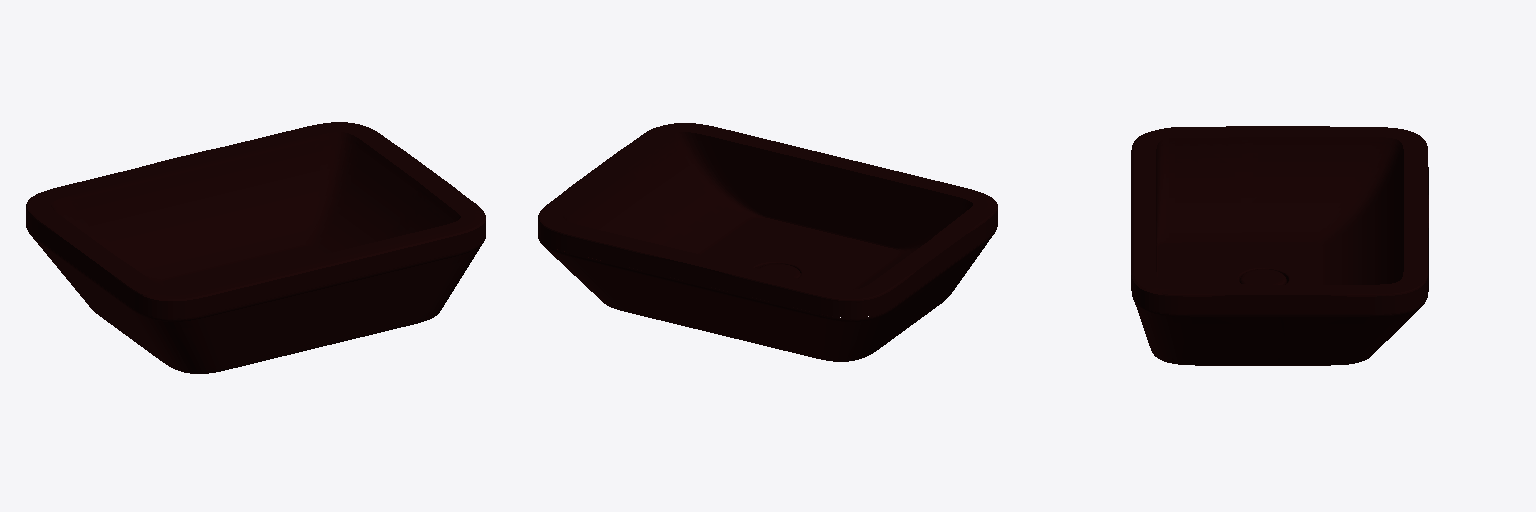
Rendered from washbasin.obj.
3 renders of one model, left to right at view 1: azimuth 30°, elevation 25°; view 2: azimuth 150°, elevation 25°; view 3: azimuth 270°, elevation 25°, orthographic.
Parts seen in each view (by area): view 1: Plane523; view 2: Plane523; view 3: Plane523.
Part boxes in pixels (x1,y1,x2,y2): Plane523: (26,122,485,373); Plane523: (538,123,997,361); Plane523: (1131,126,1428,365).
Size of the model in its own units: 0.5444 by 0.1358 by 0.405.